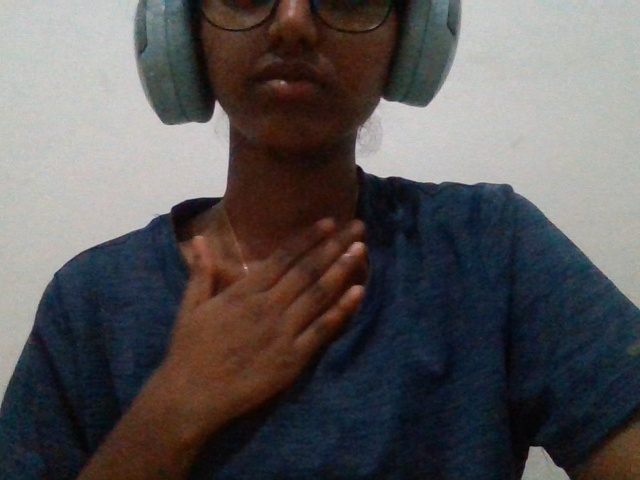Please: (140, 216, 451, 451)
